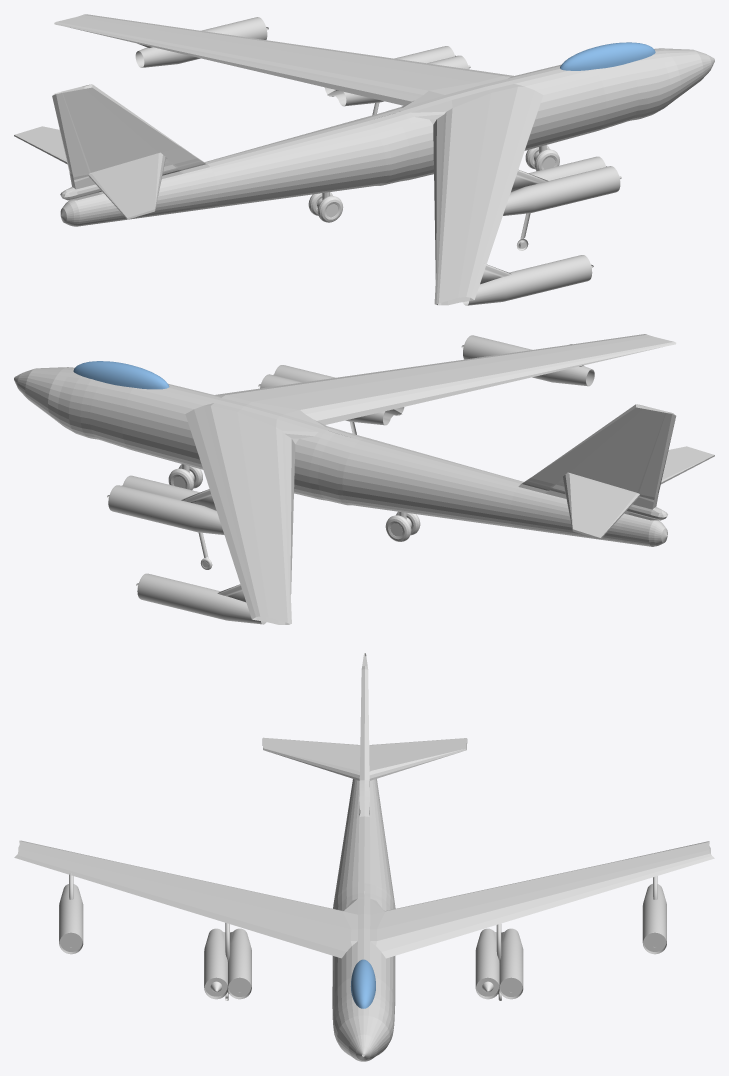
File: smallerb47.glb
3 renders of one model, top to bottom at view 1: azimuth 30°, elevation 25°; view 2: azimuth 150°, elevation 25°; view 3: azimuth 270°, elevation 25°, orthographic. The views are drawn at different scales.
Parts seen in each view (by area): view 1: Fuselage, canopy, rearwheel, frontwheel; view 2: Fuselage, canopy, rearwheel, frontwheel; view 3: Fuselage, canopy.
Boxes of the visible parts, x1,y1,x2,y2 form: Fuselage: [14, 14, 714, 305]; canopy: [560, 42, 655, 70]; rearwheel: [308, 192, 343, 222]; frontwheel: [525, 145, 559, 171]; Fuselage: [14, 334, 714, 624]; canopy: [73, 361, 169, 389]; rearwheel: [385, 511, 420, 541]; frontwheel: [168, 464, 202, 490]; Fuselage: [14, 653, 714, 1061]; canopy: [350, 959, 375, 1008].
Size of the model in its own units: 38.69 by 11.02 by 39.53.
